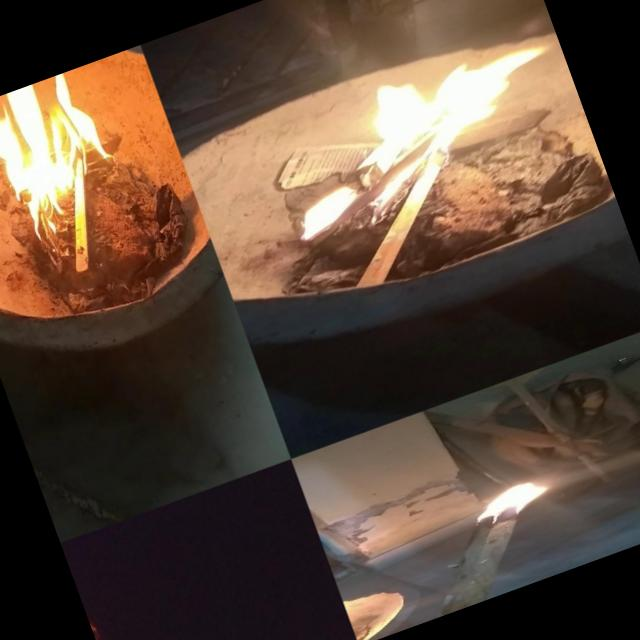fire: (218, 4, 580, 258), (0, 68, 127, 249), (68, 531, 215, 640), (460, 466, 564, 534)
